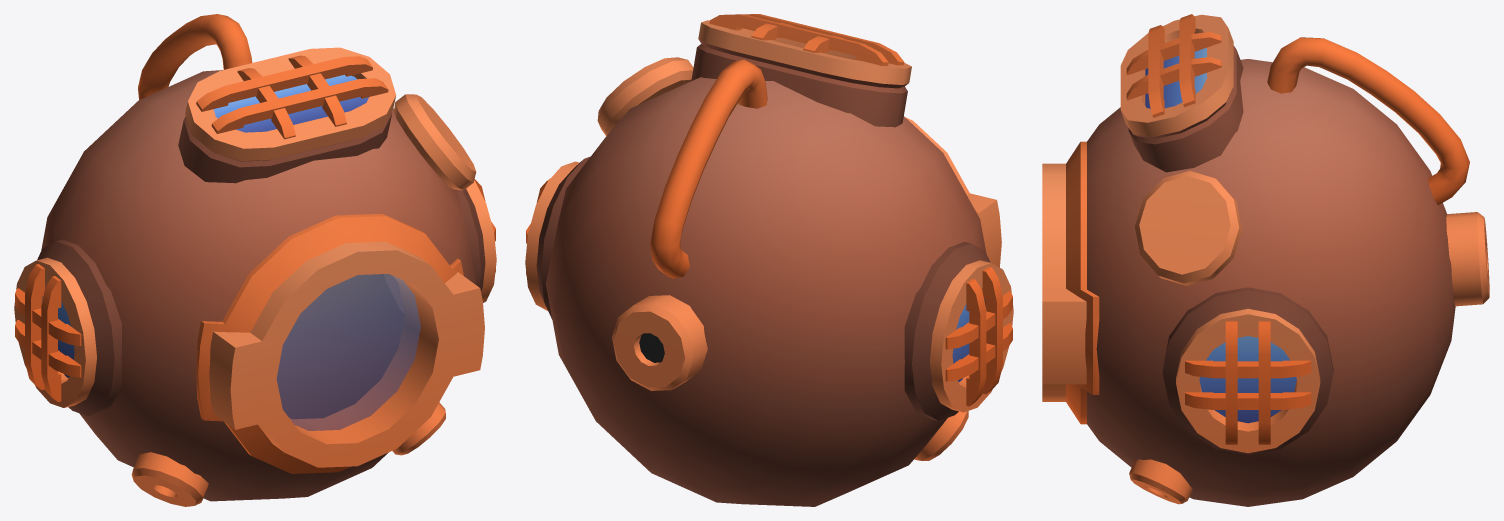
The model's file is Hat_56.glb.
The picture shows the model from 3 angles, left to right: view 1: azimuth 30°, elevation 25°; view 2: azimuth 150°, elevation 25°; view 3: azimuth 270°, elevation 25°; orthographic projection.
Parts seen in each view (by area): view 1: Hat_56; view 2: Hat_56; view 3: Hat_56.
Boxes of the visible parts, x1,y1,x2,y2 form: Hat_56: (14,14,496,506); Hat_56: (525,14,1013,506); Hat_56: (1042,14,1489,506).
Size of the model in its own units: 0.7321 by 0.7092 by 0.6425.
2 materials, 2 textured.
